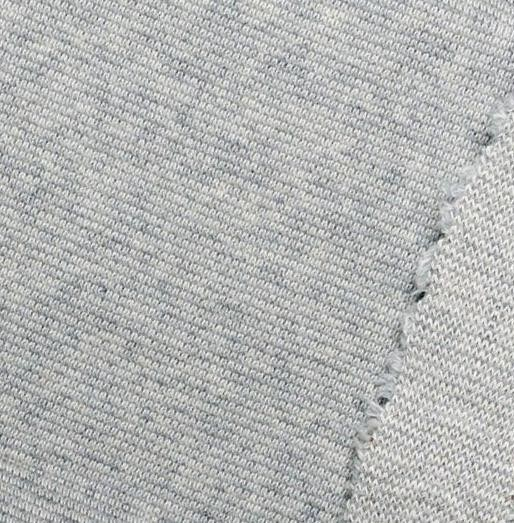slub: (331, 92, 512, 523)
